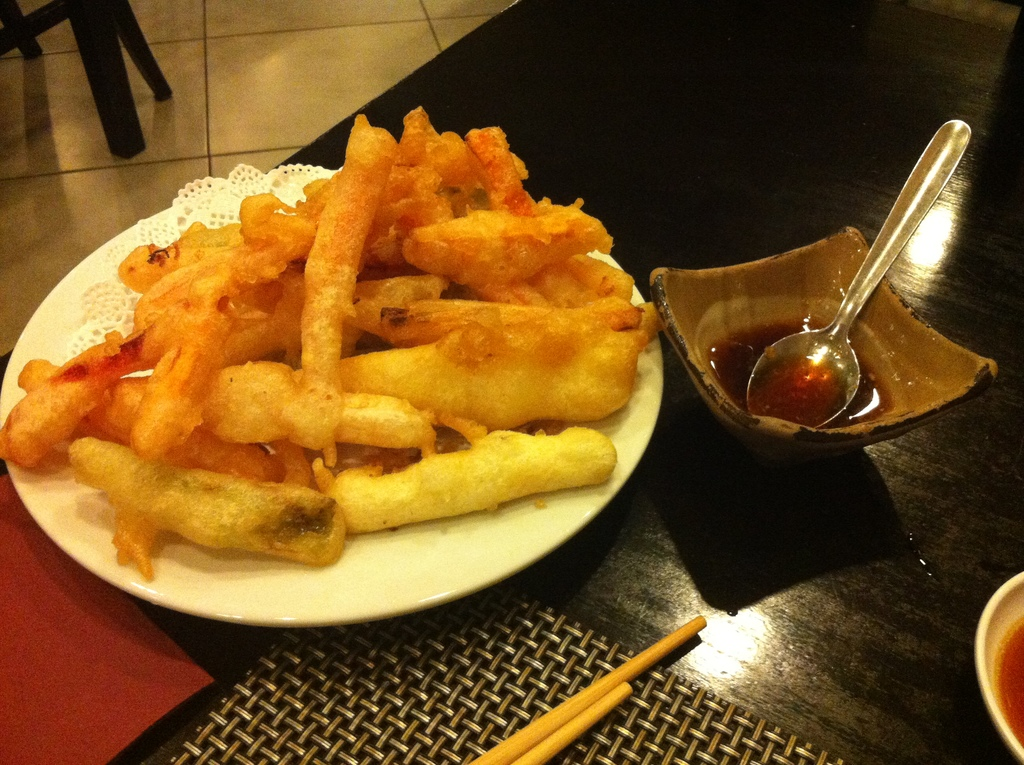French fries: (21, 154, 660, 577)
